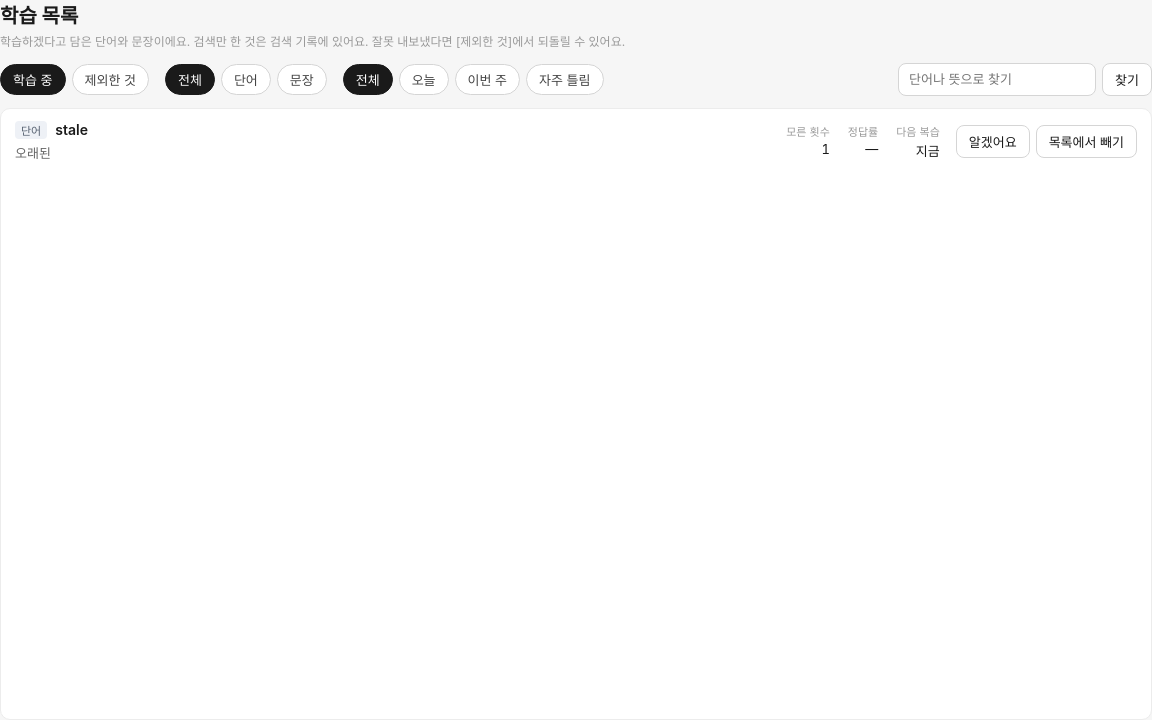
Learning › 알겠어요를 누르면 목록에서 빠진다
The image size is (1152, 720).
Expected: the text "stale" is shown, [55,121,88,138]
Click the button "알겠어요" at point(993, 142), box [956,125,1030,158]
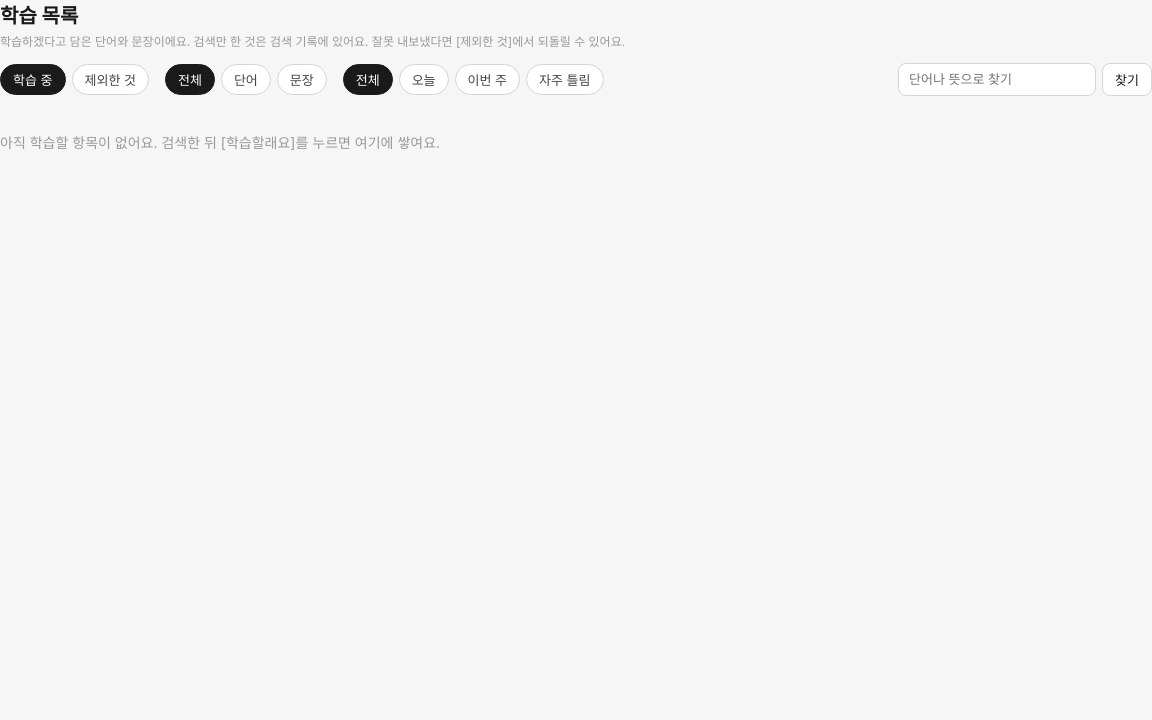
Expected: the text "stale" is gone
